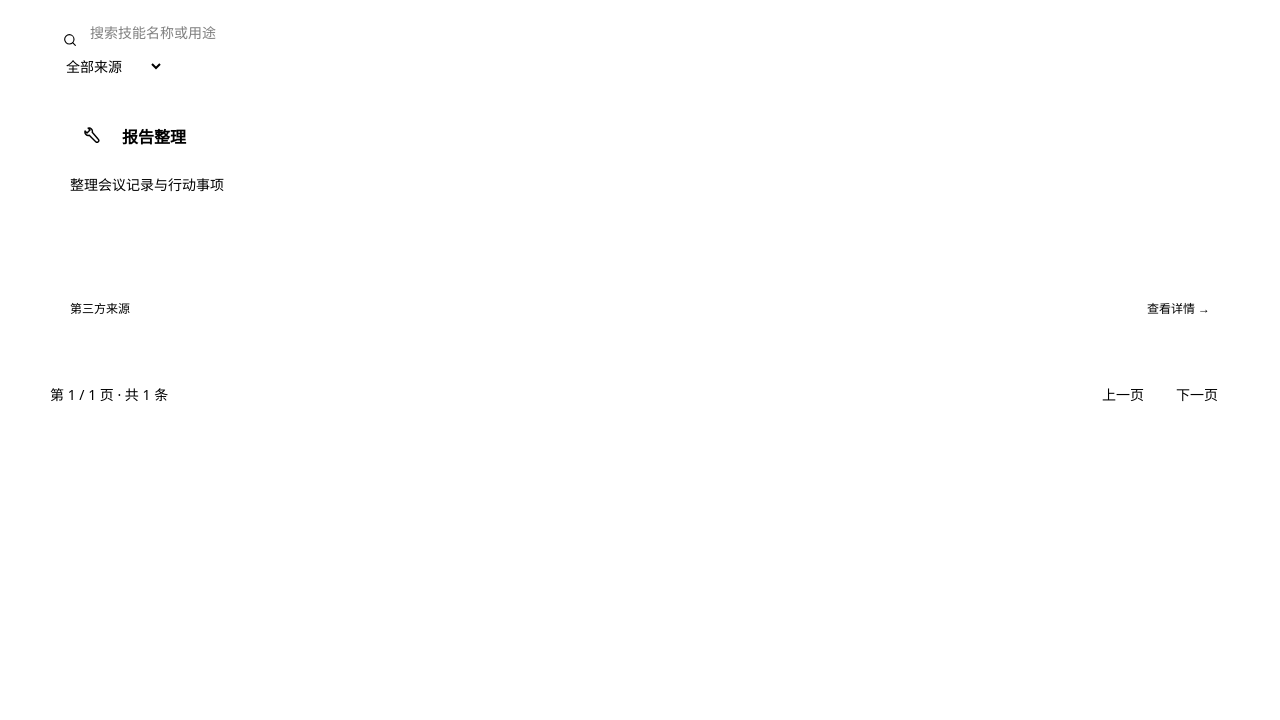
skills show purpose first and keep sharing and removal inside details
The width and height of the screenshot is (1280, 720).
Check: the heading "报告整理" is shown, box [122, 126, 186, 148]
Check: the text "整理会议记录与行动事项" is shown, box [70, 173, 224, 197]
Step 1. Type "找不到" into the field named "搜索技能库" → (640, 33), box [50, 23, 1230, 43]
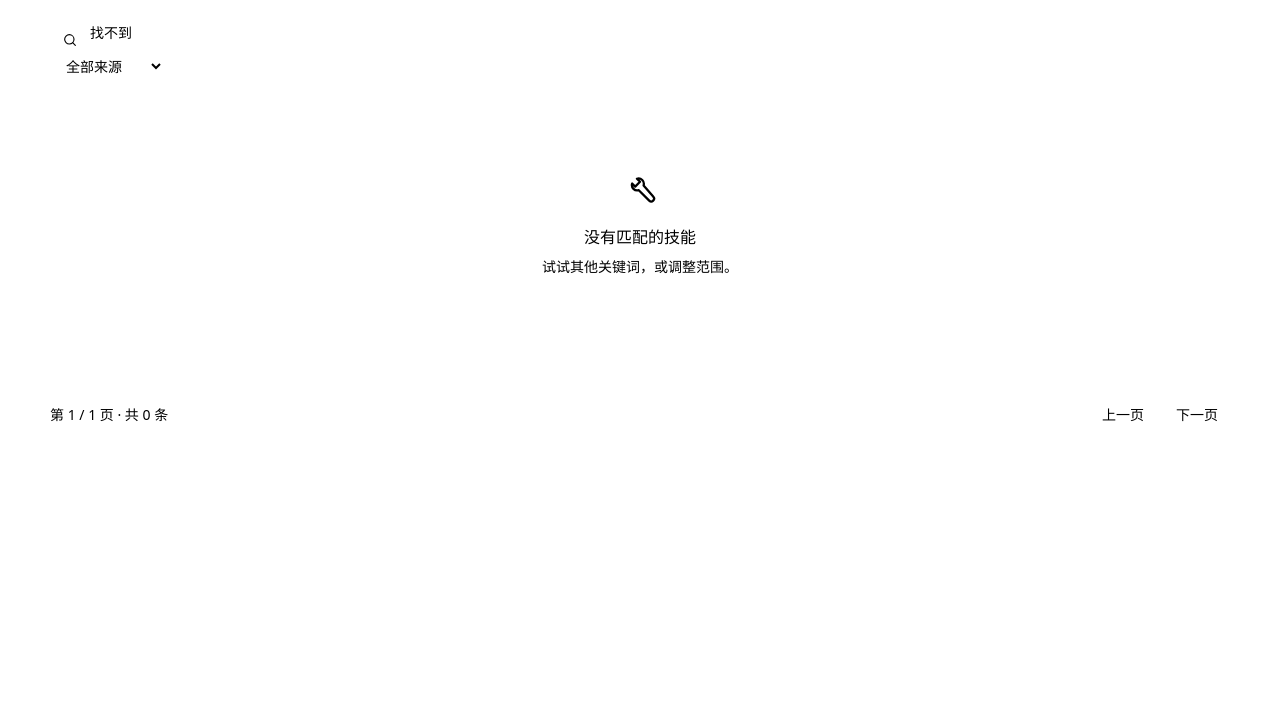
Check: the text "没有匹配的技能" is shown, box [584, 226, 696, 248]
Step 2. Replace the text in the field named "搜索技能库" with "行动事项" → (640, 33), box [50, 23, 1230, 43]
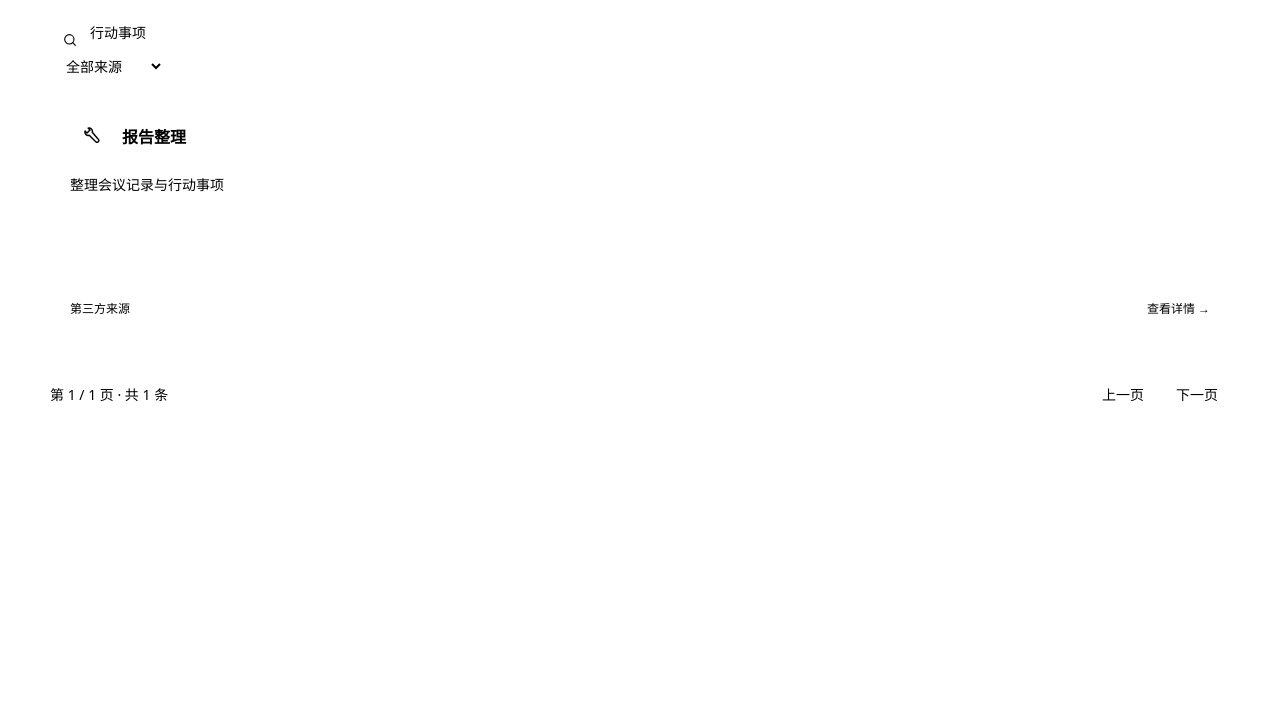
Step 3. Click the button "报告整理 整理会议记录与行动事项 第三方来源 查看详情 →" → (640, 217), box [50, 97, 1230, 337]
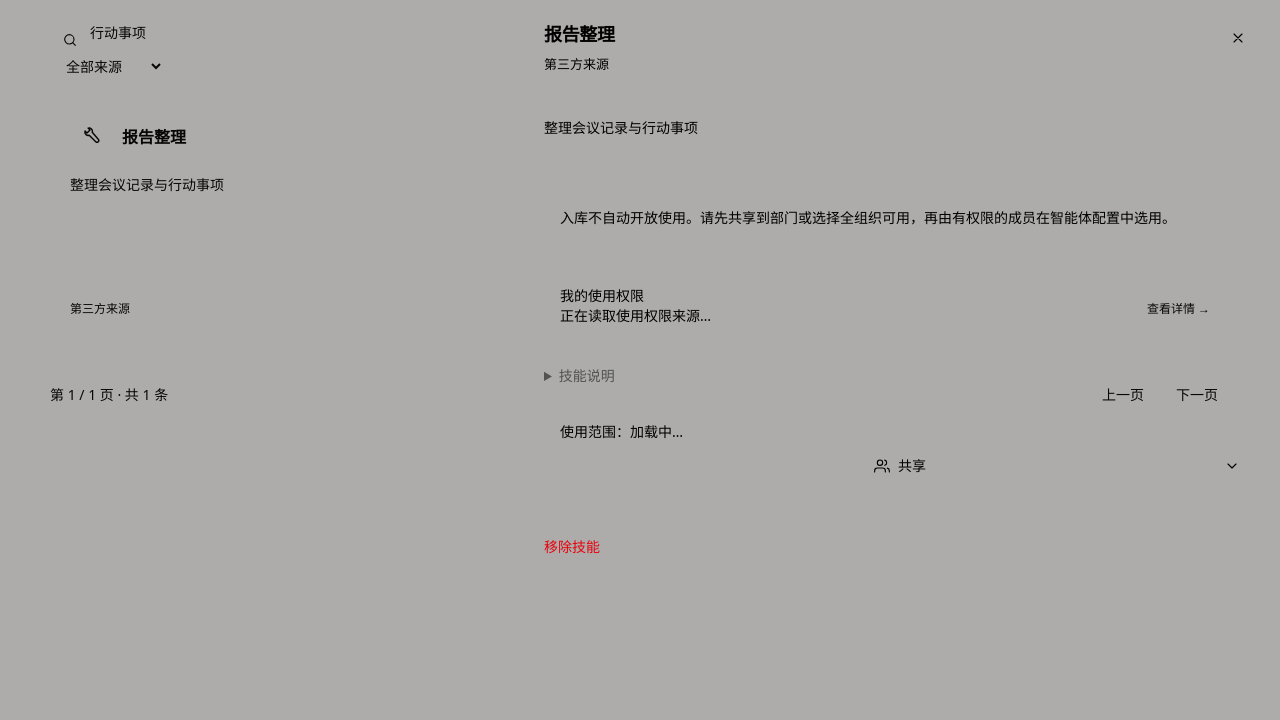
Check: the dialog is shown, box [520, 0, 1279, 719]
Check: the text "共享" is shown, box [898, 456, 926, 476]
Step 4. Click the button "移除技能" → (572, 547), box [544, 537, 600, 557]
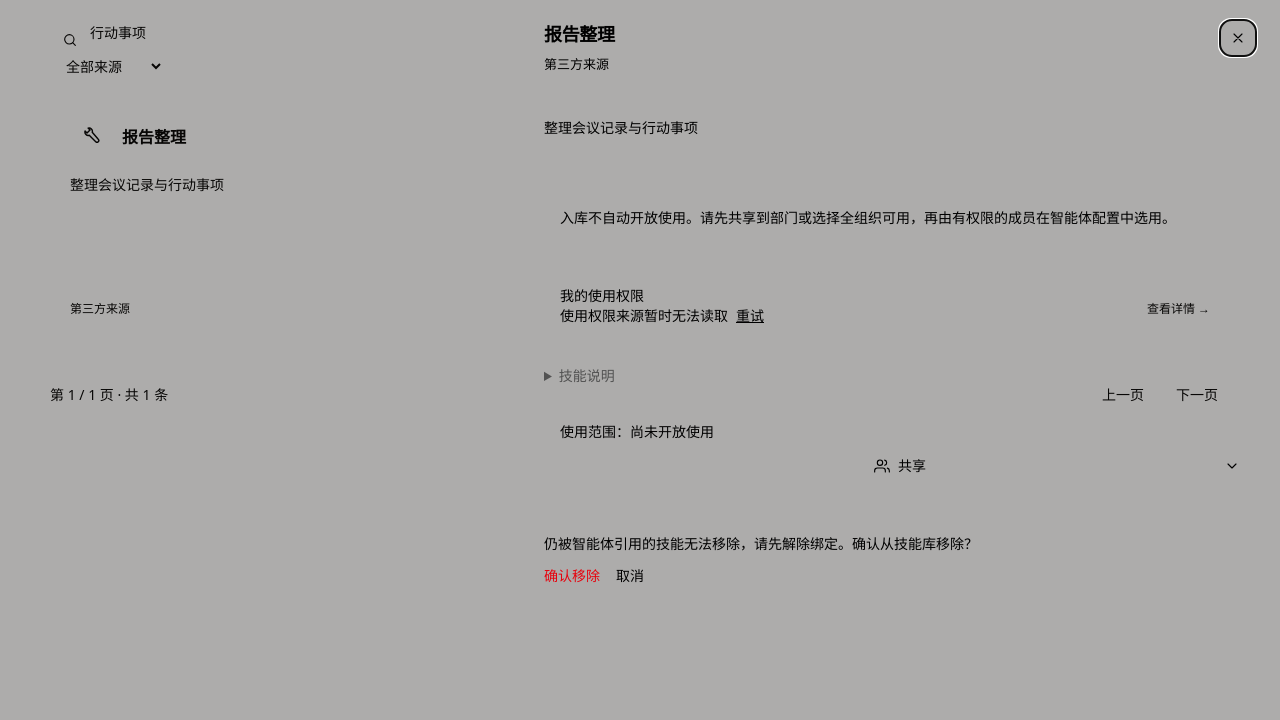
Check: the button "确认移除" is shown, box [544, 566, 600, 586]
